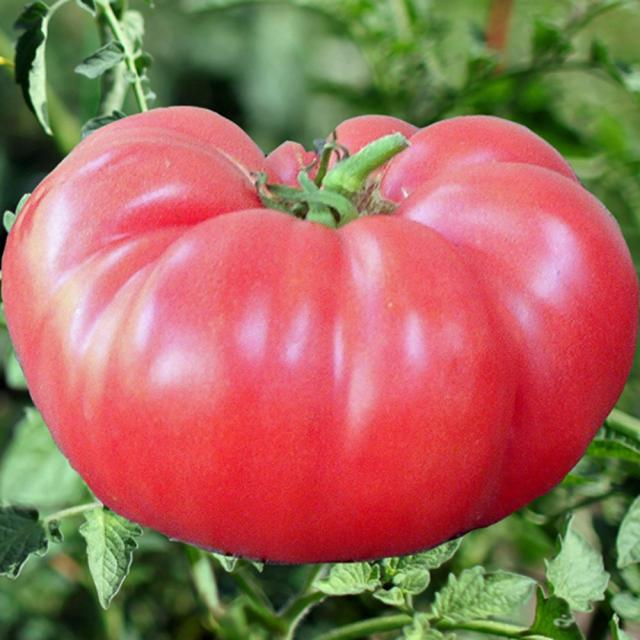tomato: (8, 102, 630, 566)
